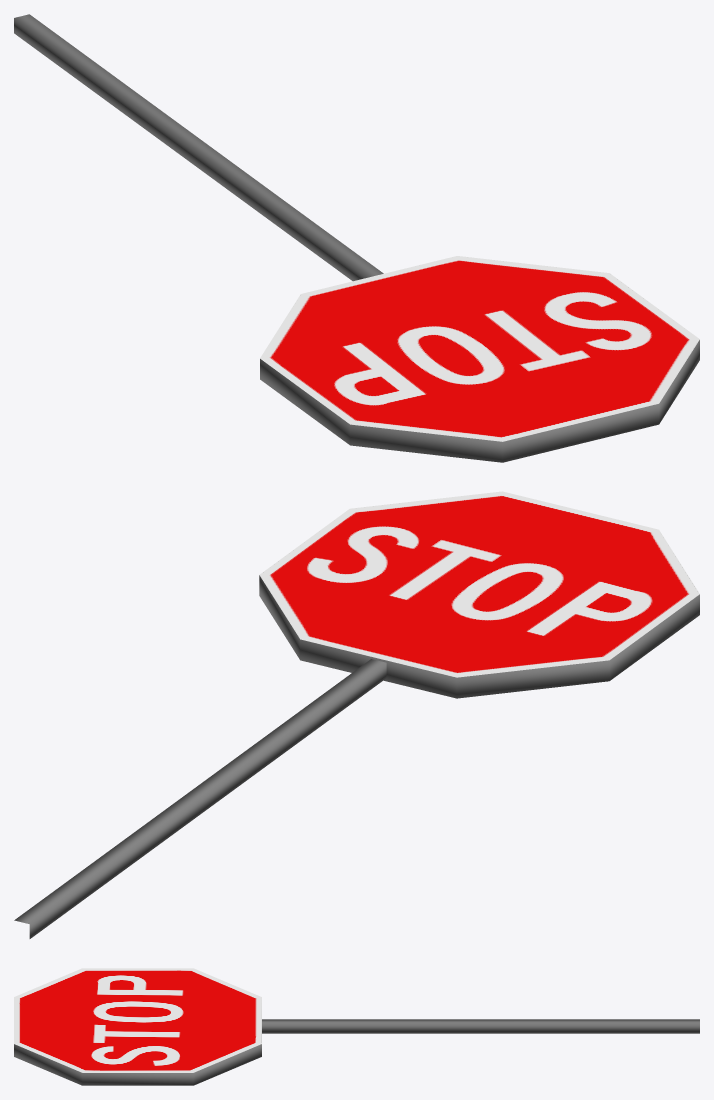
File: stop_sign.glb
3 renders of one model, top to bottom at view 1: azimuth 30°, elevation 25°; view 2: azimuth 150°, elevation 25°; view 3: azimuth 270°, elevation 25°, orthographic. The views are drawn at different scales.
Visible parts, largest first — view 1: Cube; view 2: Cube; view 3: Cube.
Part boxes in pixels (left/top/right/bottom): Cube: left=14, top=14, right=699, bottom=462; Cube: left=14, top=491, right=699, bottom=938; Cube: left=14, top=968, right=699, bottom=1085.
Size of the model in its own units: 0.8824 by 0.0504 by 2.44.
Materials: 1 (1 with a texture image).
